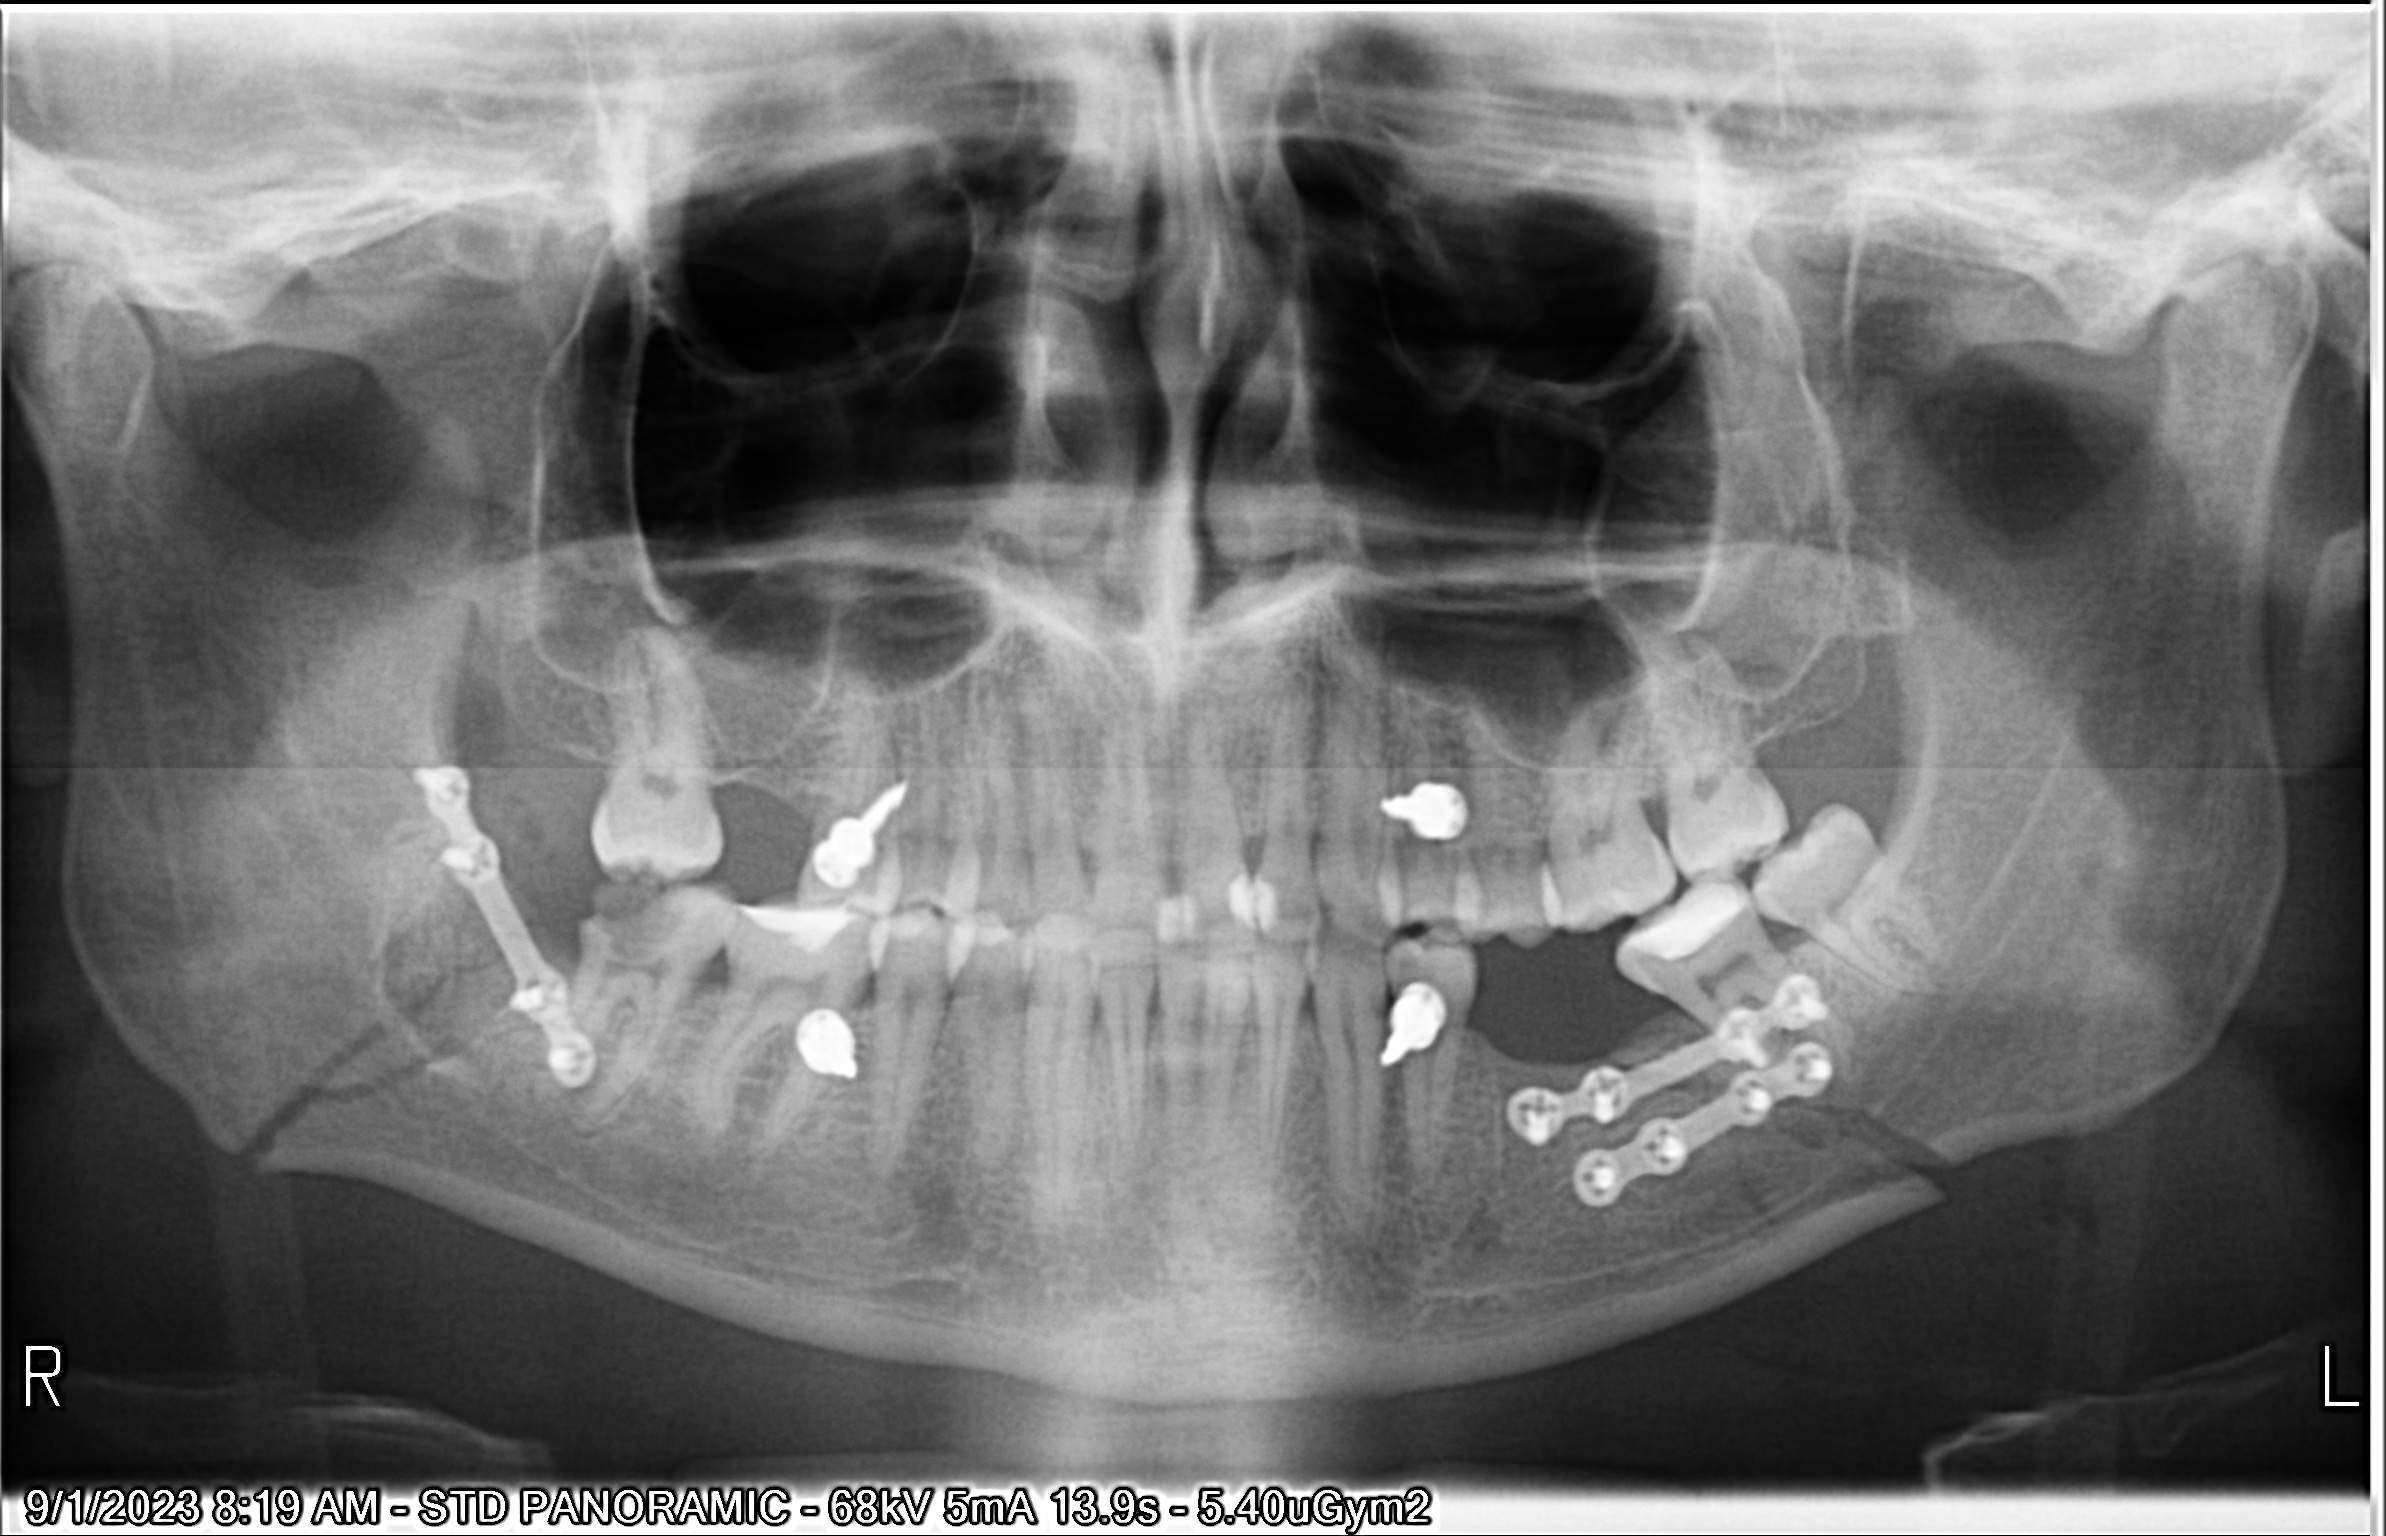CAR: (572, 863, 696, 962)
OBT: (1610, 868, 1758, 992), (730, 894, 868, 969), (1205, 870, 1264, 941), (1170, 880, 1212, 945), (1139, 885, 1183, 945), (1250, 870, 1290, 931)
SRD: (369, 762, 617, 1110), (1471, 965, 1843, 1172), (1558, 1004, 1857, 1228), (793, 760, 923, 908), (1365, 764, 1506, 854), (1356, 976, 1473, 1080), (781, 997, 889, 1103)
